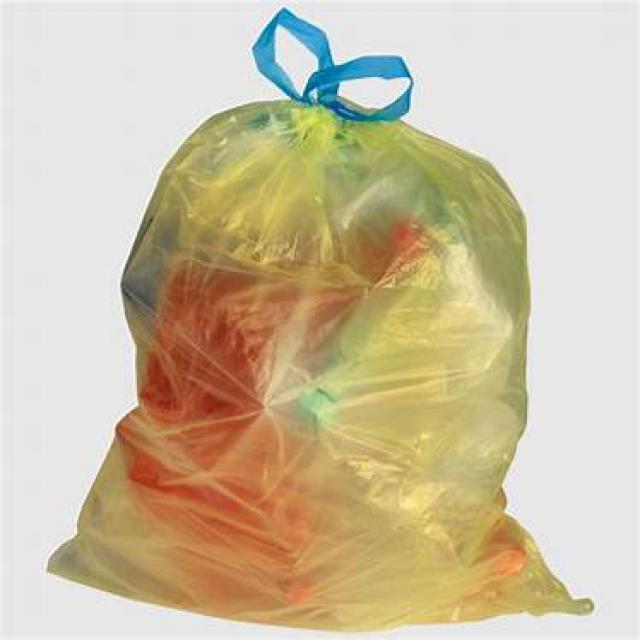waste: (51, 25, 584, 616)
